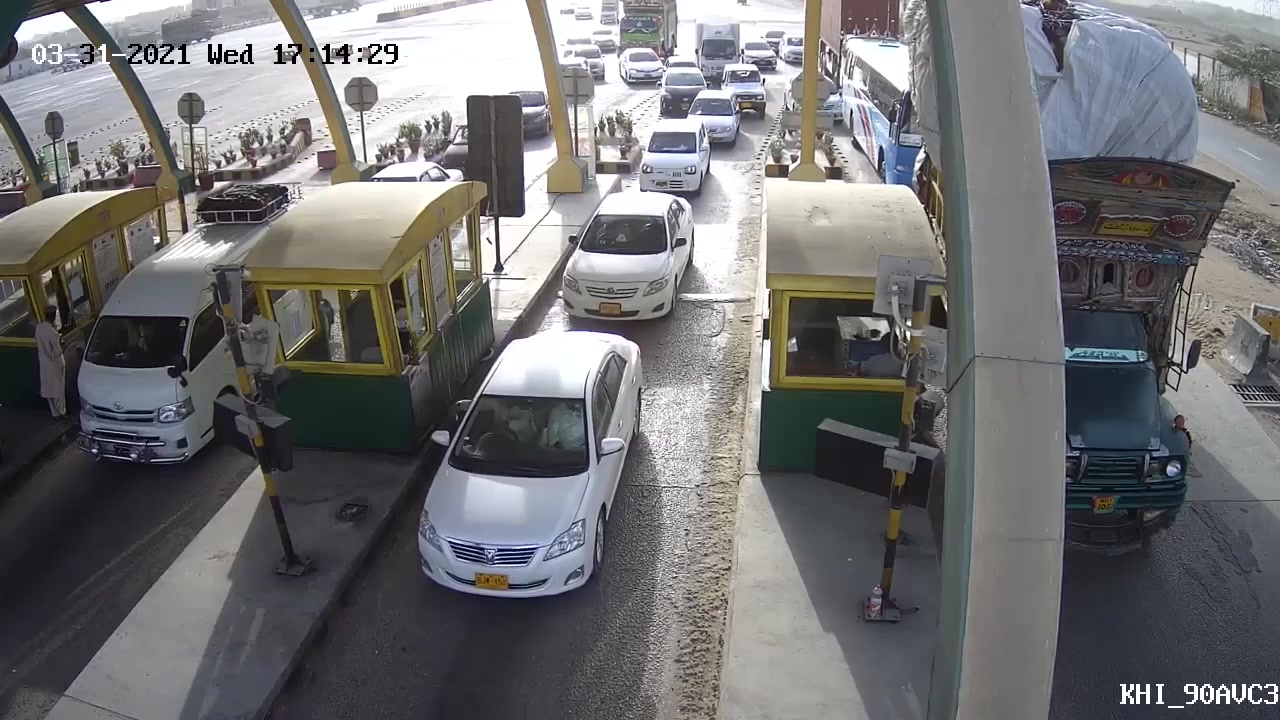F1: (394, 321, 646, 627), (555, 189, 704, 339)
